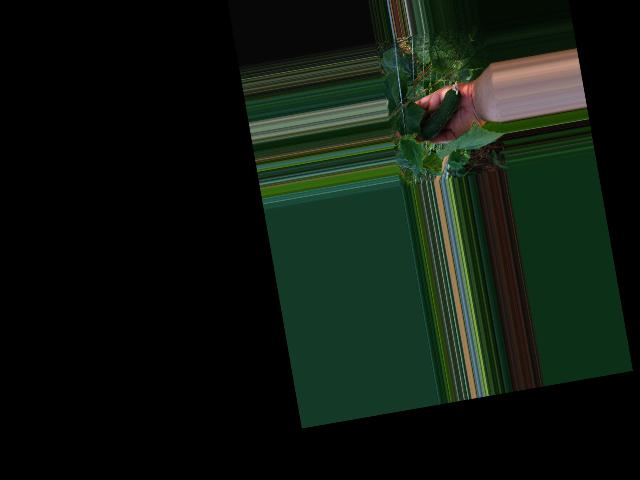cucumber: (412, 80, 467, 140)
